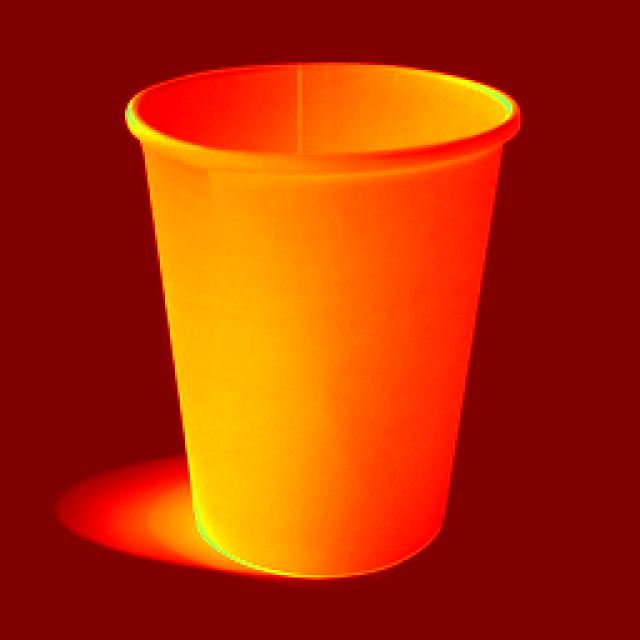Paper Cups: (100, 31, 527, 595)
